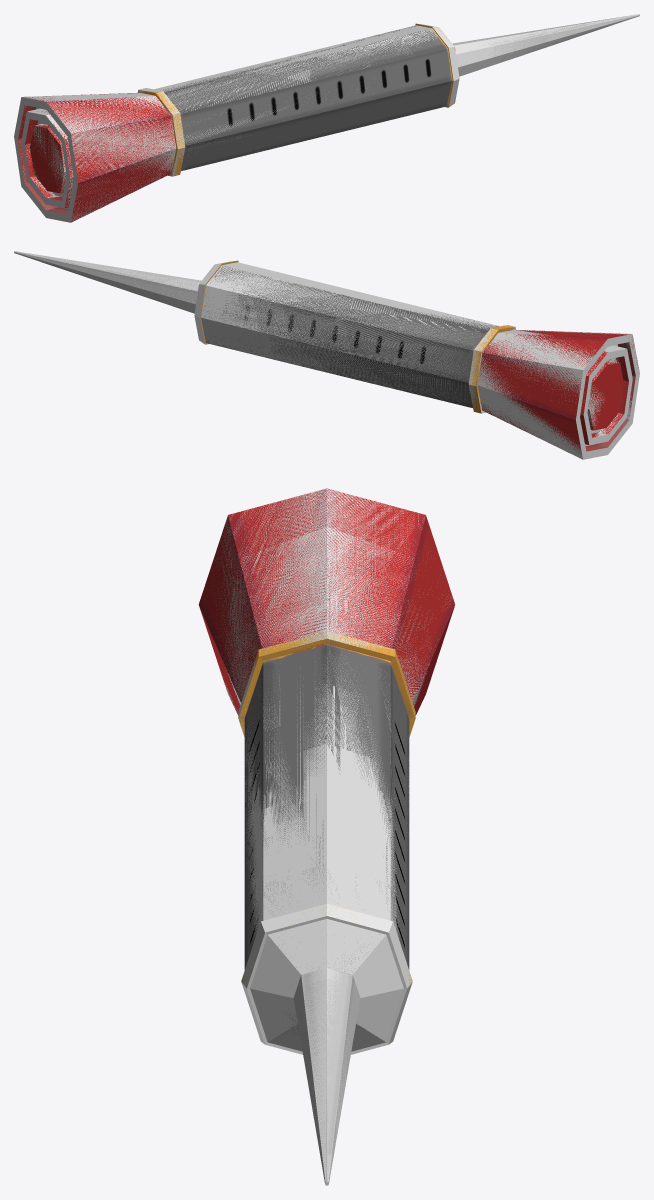
Rendered from dart.glb.
3 renders of one model, top to bottom at view 1: azimuth 30°, elevation 25°; view 2: azimuth 150°, elevation 25°; view 3: azimuth 270°, elevation 25°, orthographic. The views are drawn at different scales.
Parts seen in each view (by area): view 1: dart, Cube_001; view 2: dart, Cube_001; view 3: dart, Cube_001.
Boxes of the visible parts, box(x1,y1,x2,y2) form: dart: box(18, 14, 639, 222); Cube_001: box(14, 14, 639, 222); dart: box(14, 251, 638, 454); Cube_001: box(14, 251, 639, 459); dart: box(198, 488, 455, 1183); Cube_001: box(204, 488, 454, 1185).
Size of the model in its own units: 1.32 by 0.2462 by 0.2462.
2 materials, 1 textured.
